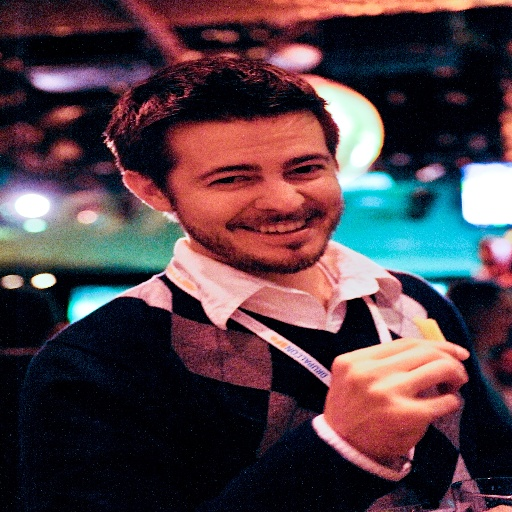hand: (312, 335, 478, 469)
